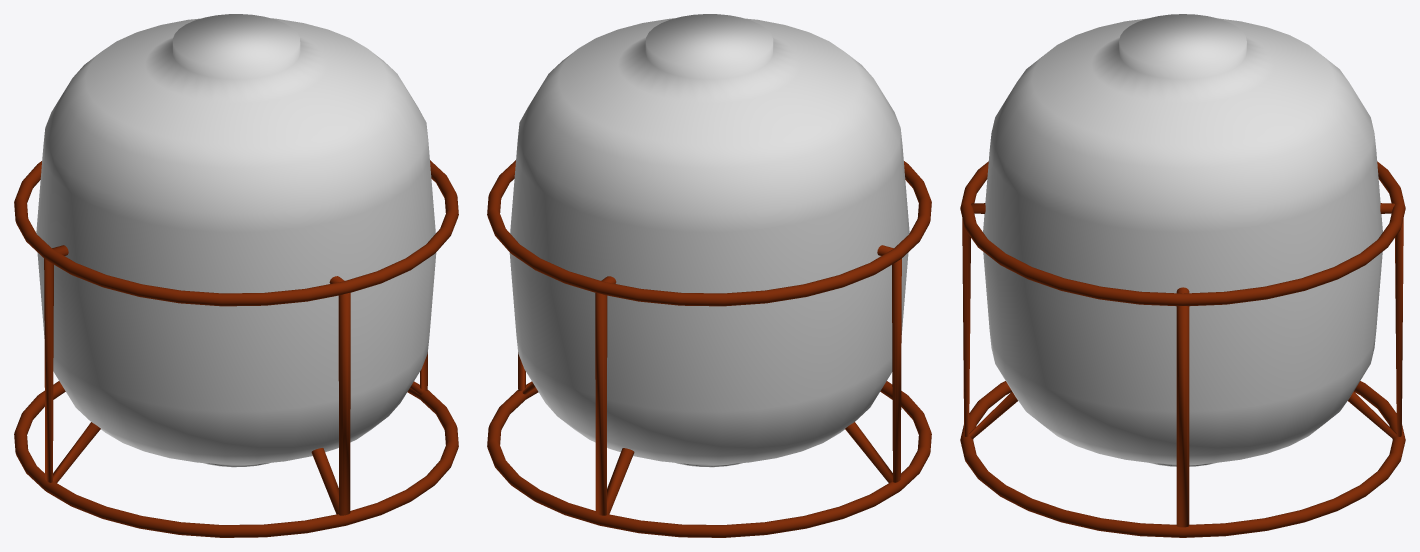
The model's file is diving_bell.fbx.
3 renders of one model, left to right at view 1: azimuth 30°, elevation 25°; view 2: azimuth 150°, elevation 25°; view 3: azimuth 270°, elevation 25°, orthographic.
Visible parts, largest first — view 1: Circle, Circle.002; view 2: Circle, Circle.002; view 3: Circle, Circle.002.
Boxes of the visible parts, left/top/right/bottom form: Circle: left=36, top=14, right=436, bottom=467; Circle.002: left=14, top=160, right=458, bottom=537; Circle: left=509, top=14, right=909, bottom=467; Circle.002: left=487, top=160, right=931, bottom=537; Circle: left=983, top=14, right=1382, bottom=466; Circle.002: left=960, top=161, right=1405, bottom=537.
Bounding box in the file's own units: 698 × 700 × 698.
